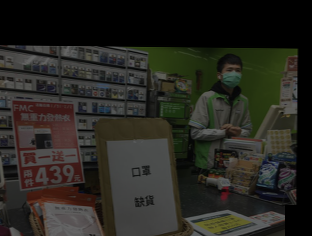with_mask: (222, 66, 242, 89)
